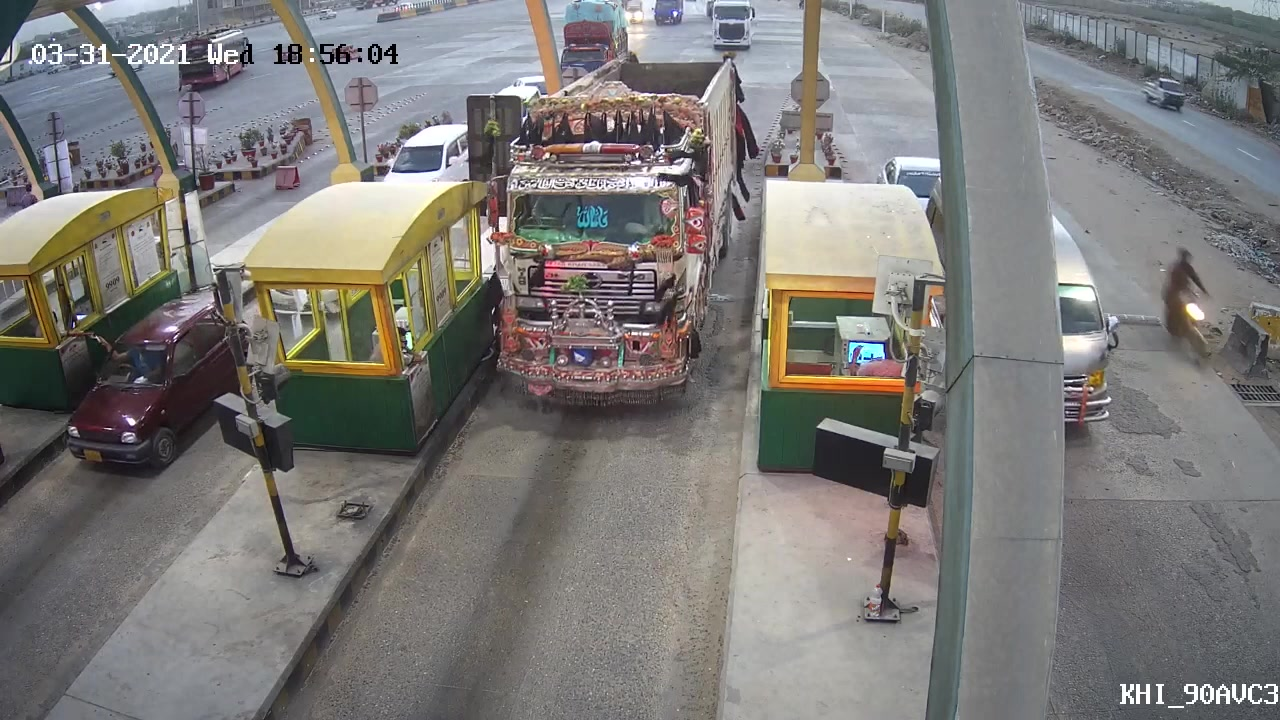F5: (473, 49, 747, 405)
